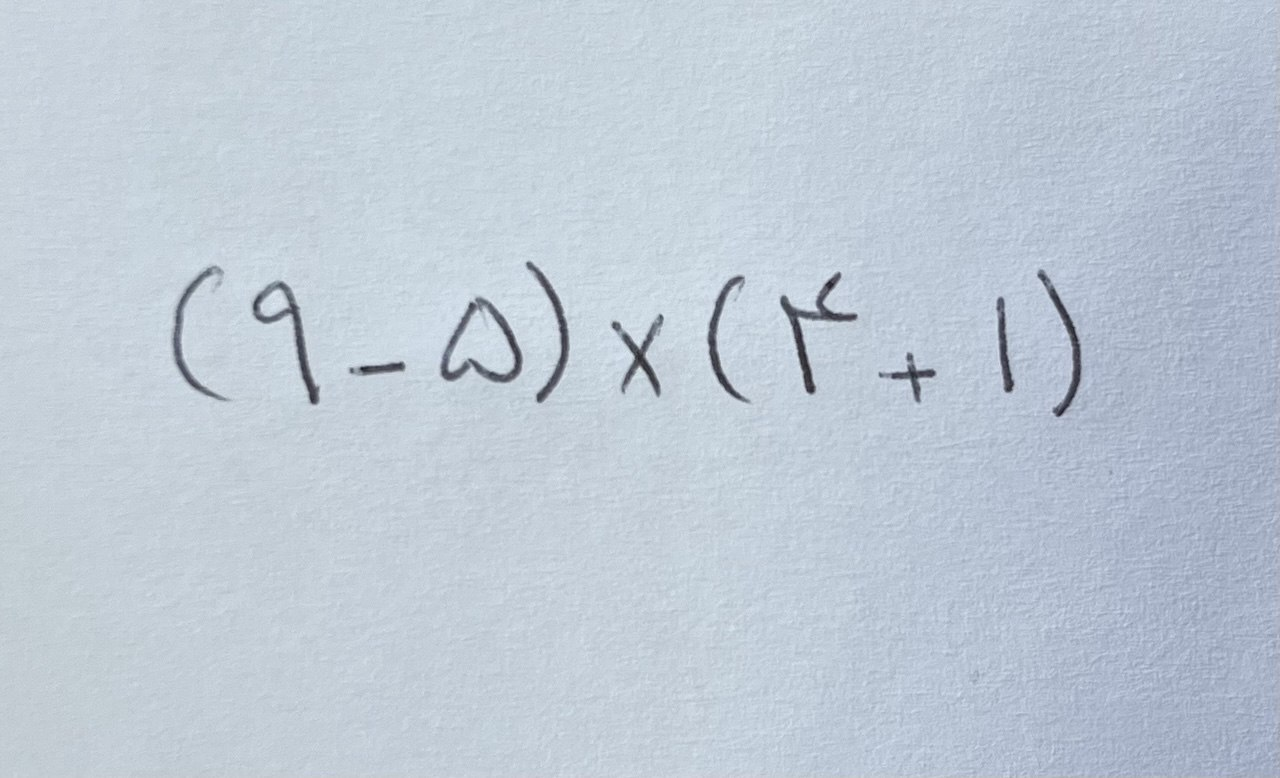character: (170, 262, 243, 406), (779, 270, 859, 396), (251, 279, 321, 406), (440, 295, 527, 383), (1034, 266, 1083, 418), (524, 259, 571, 406), (706, 273, 757, 407), (611, 312, 666, 399), (877, 350, 938, 406), (996, 295, 1019, 394), (346, 360, 410, 378)
